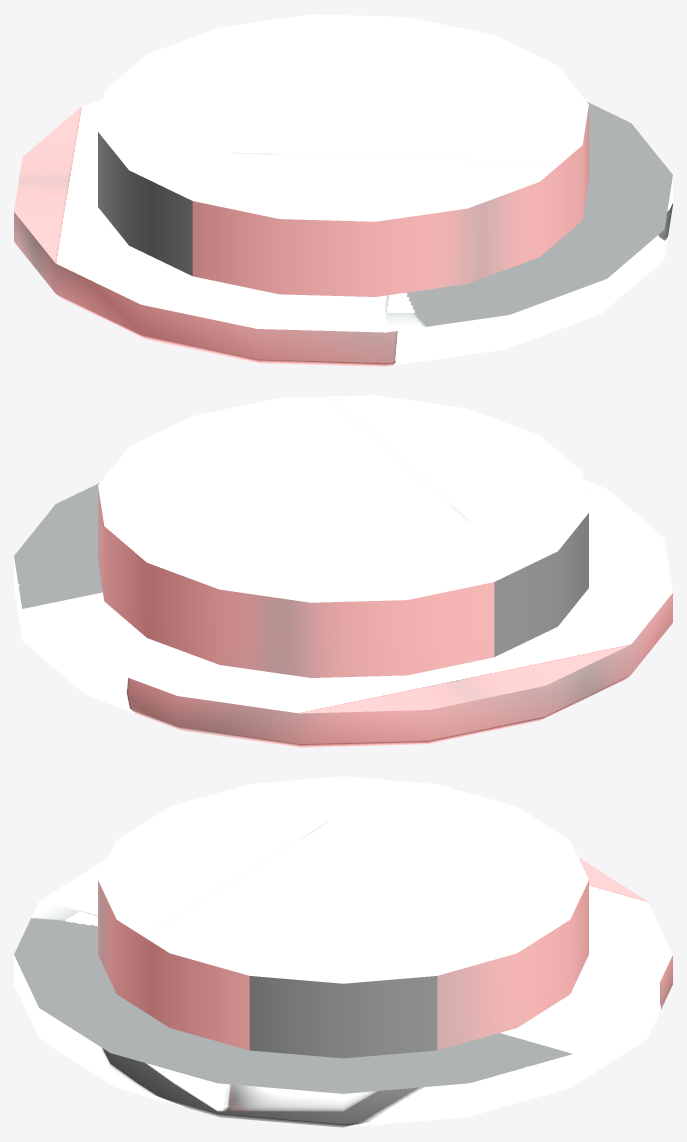
Rendered from SM_CeilingLightSunk_01.fbx.
3 views of the same model, one above another, from view 1: azimuth 30°, elevation 25°; view 2: azimuth 150°, elevation 25°; view 3: azimuth 270°, elevation 25° (orthographic).
Visible parts, largest first — view 1: SM_CeilingLightSunk_01_LOD0; view 2: SM_CeilingLightSunk_01_LOD0; view 3: SM_CeilingLightSunk_01_LOD0.
Part boxes in pixels (x1,y1,x2,y2): SM_CeilingLightSunk_01_LOD0: [14, 14, 672, 366]; SM_CeilingLightSunk_01_LOD0: [14, 395, 672, 747]; SM_CeilingLightSunk_01_LOD0: [14, 776, 672, 1127].
Bounding box in the file's own units: 8 × 8 × 1.5.
